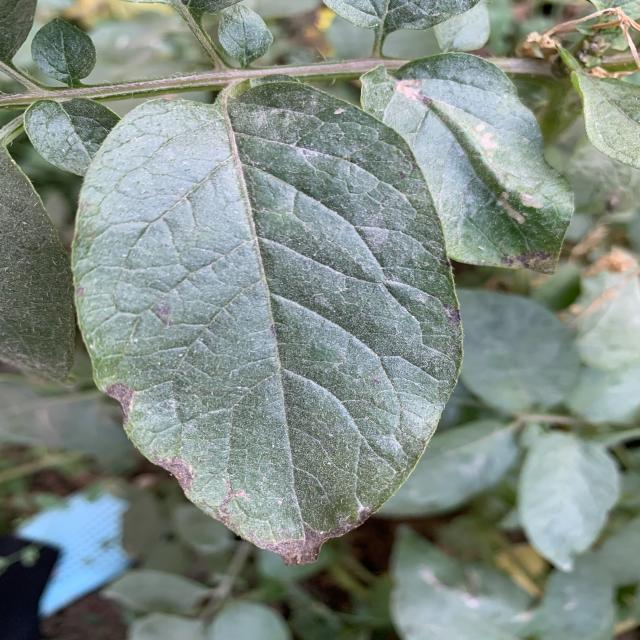lateblight: (140, 445, 195, 495), (262, 530, 333, 565), (103, 381, 138, 439), (332, 519, 363, 538), (157, 398, 180, 421), (175, 425, 180, 439)
